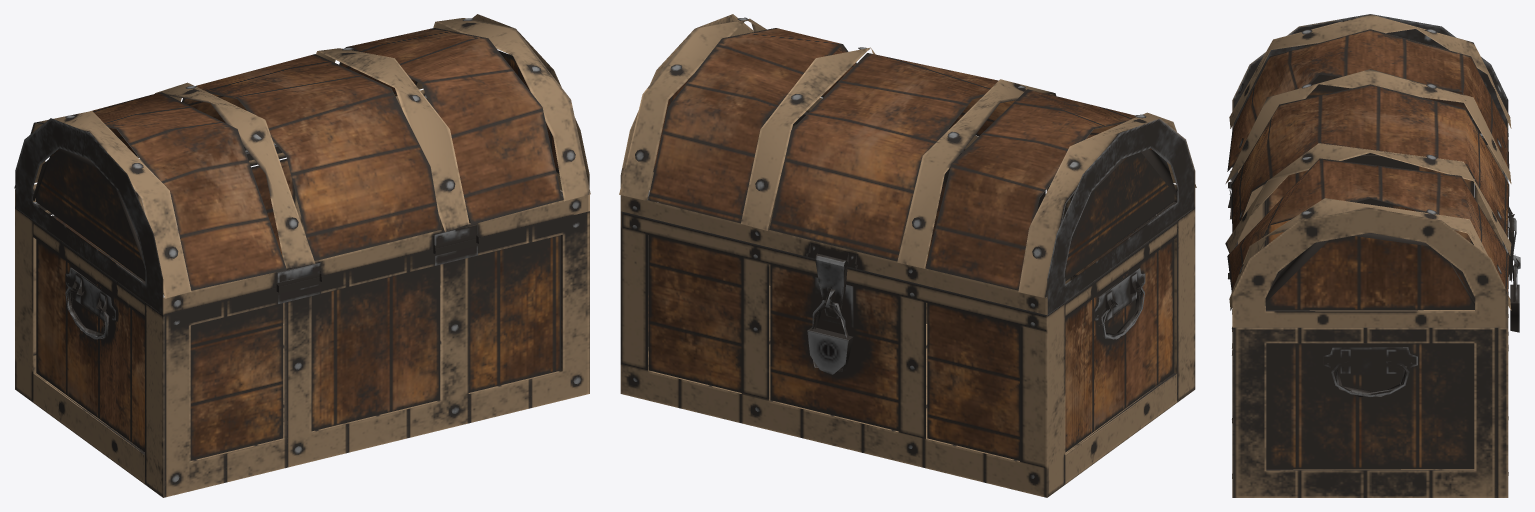
Rendered from chest_closed_lod1.glb.
3 views of the same model, side by side, from view 1: azimuth 30°, elevation 25°; view 2: azimuth 150°, elevation 25°; view 3: azimuth 270°, elevation 25° (orthographic). The views are drawn at different scales.
Visible parts, largest first — view 1: chest_closed_lod1; view 2: chest_closed_lod1; view 3: chest_closed_lod1.
Boxes of the visible parts, <box> form: chest_closed_lod1: <box>14,14,590,497</box>; chest_closed_lod1: <box>619,14,1196,497</box>; chest_closed_lod1: <box>1225,14,1520,497</box>.
Size of the model in its own units: 0.4393 by 0.3 by 0.277.
Materials: 1 (1 with a texture image).
